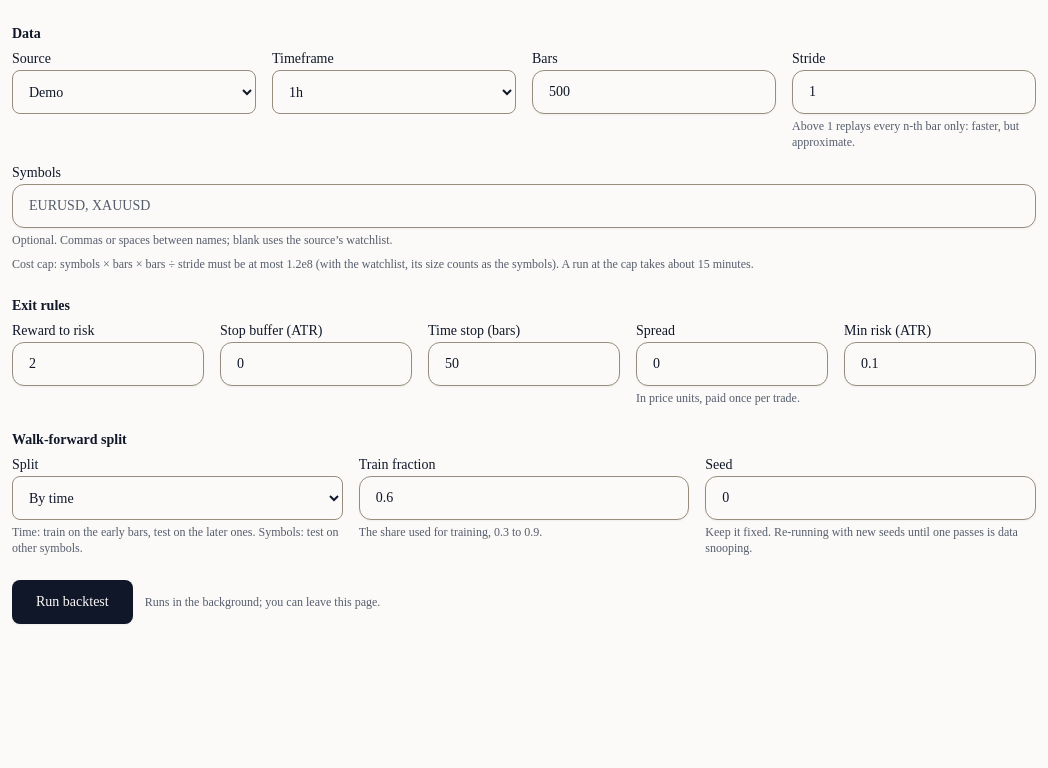
it: BacktestRunForm › shows the pending state, then focuses the first invalid field
Click the button "Run backtest" at (72, 602), box [12,580,133,624]
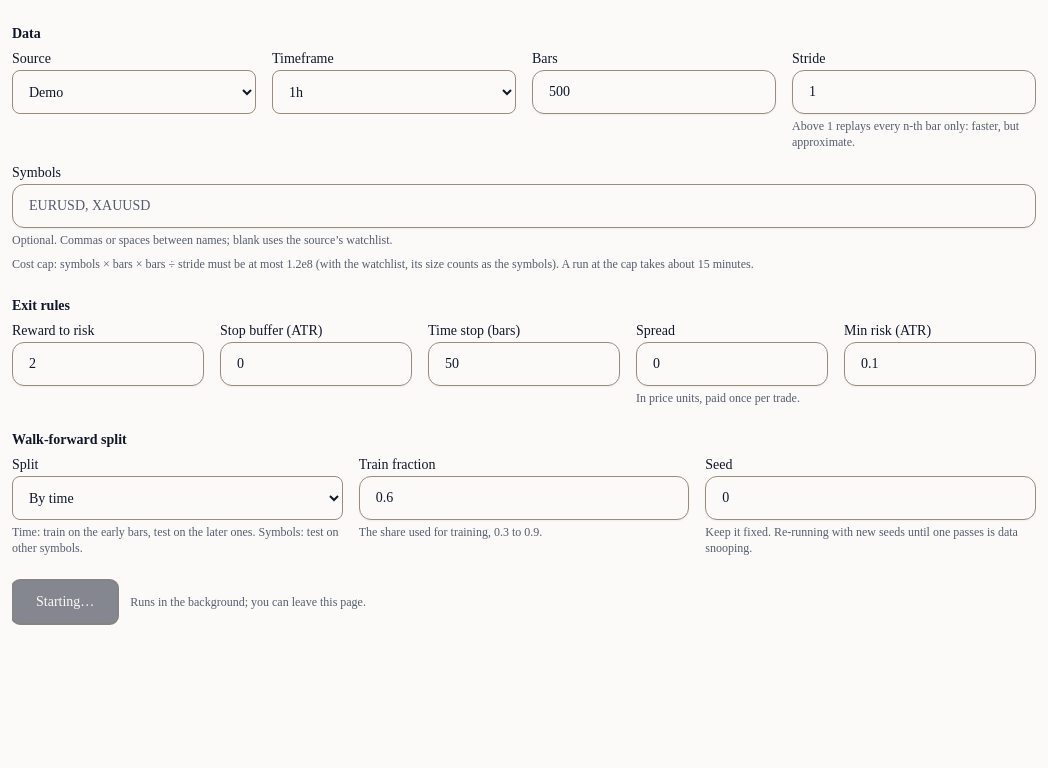
Now the button "Starting…" is disabled
Click the button "Starting…" at (65, 602), box [12,580,118,624]
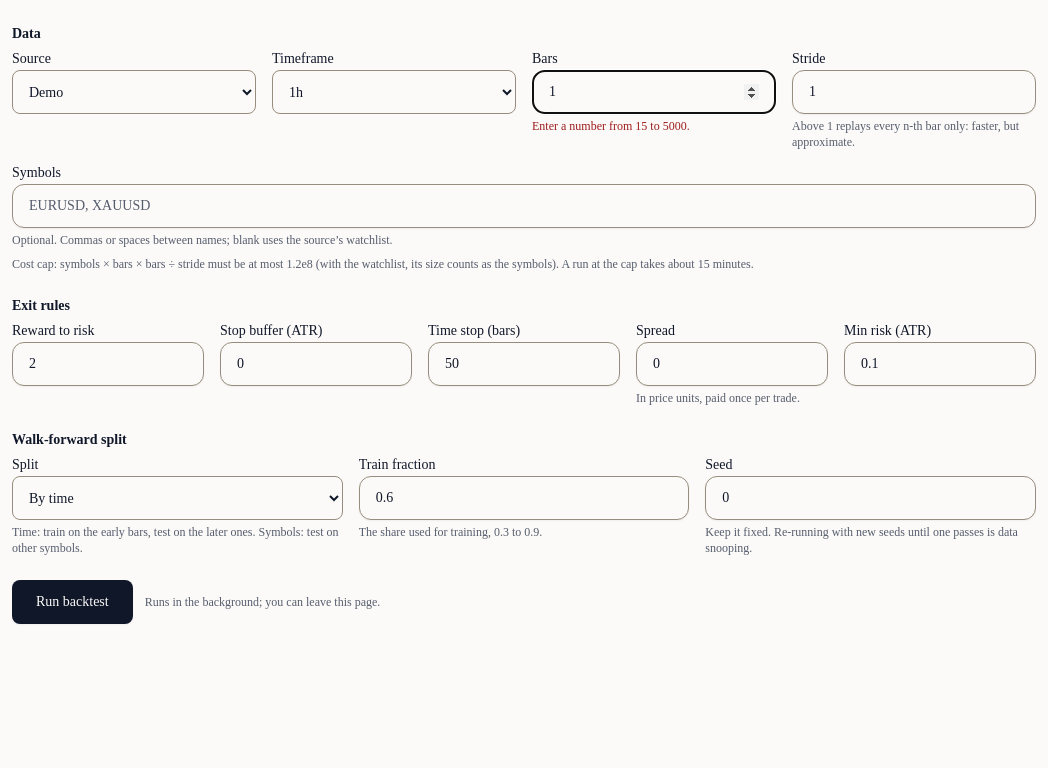
Now the number field labelled "Bars" holds "1", box [532,70,776,114]
